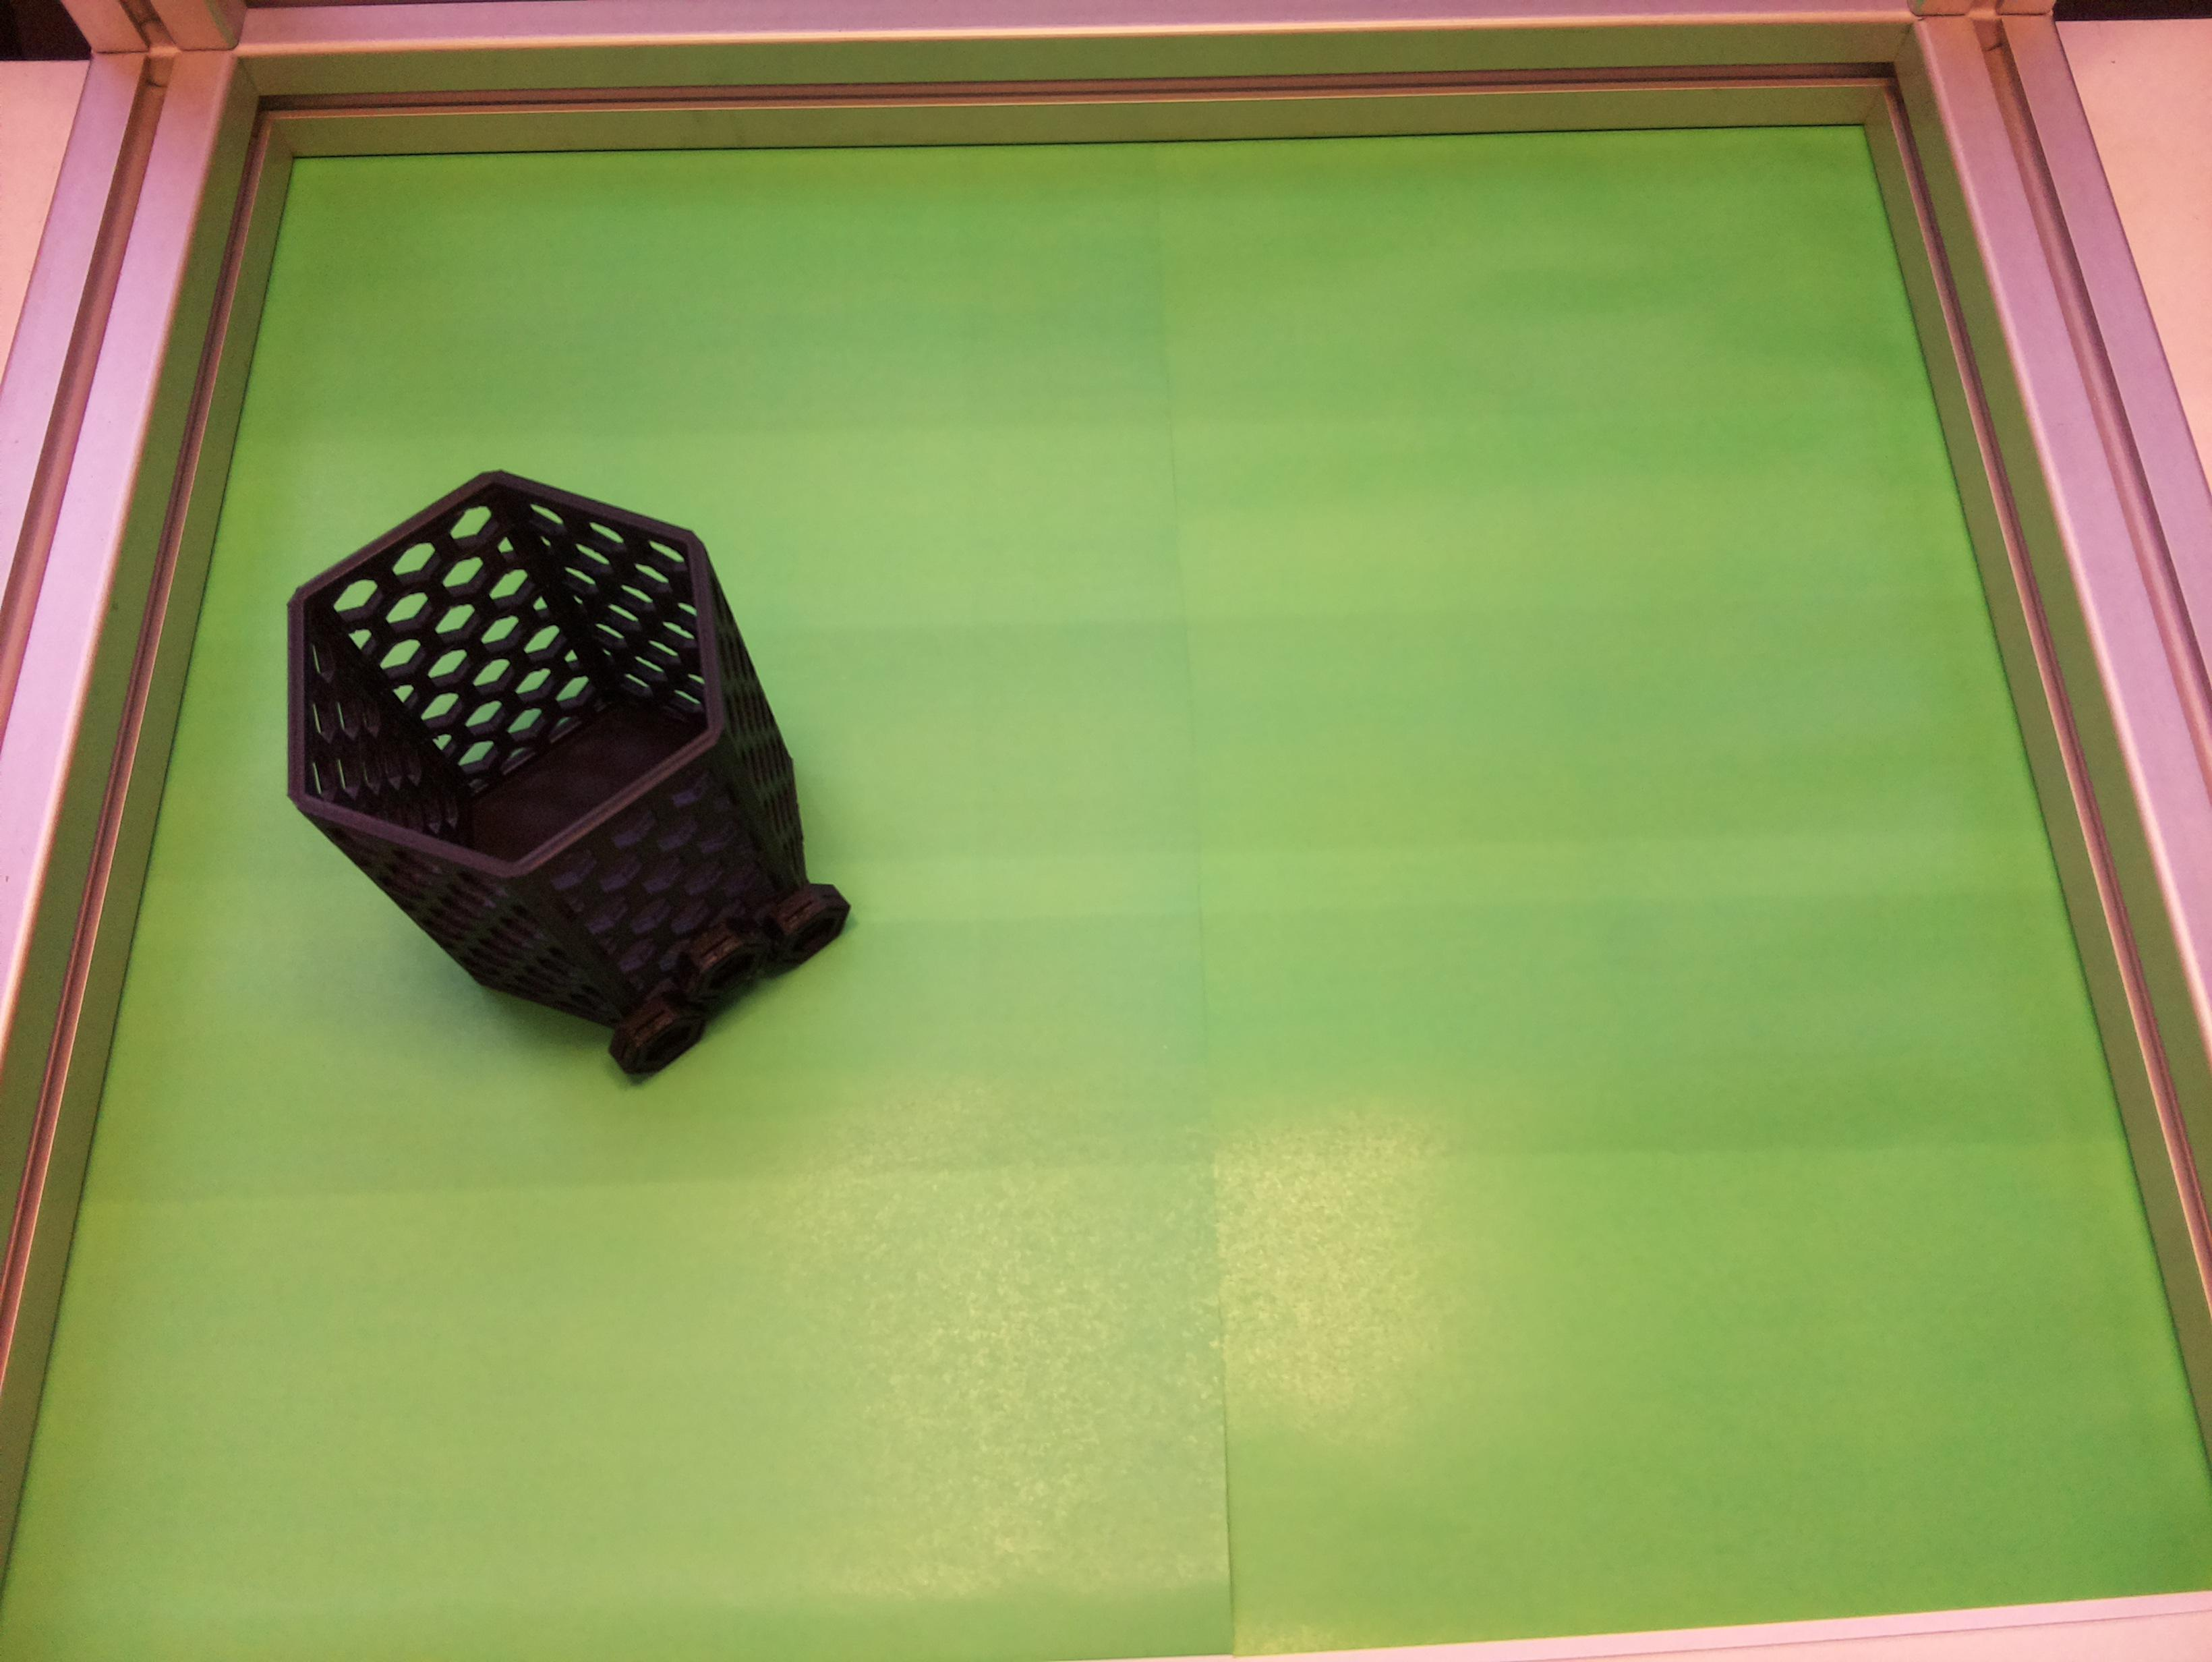cup_holder: (192, 379, 939, 1149)
